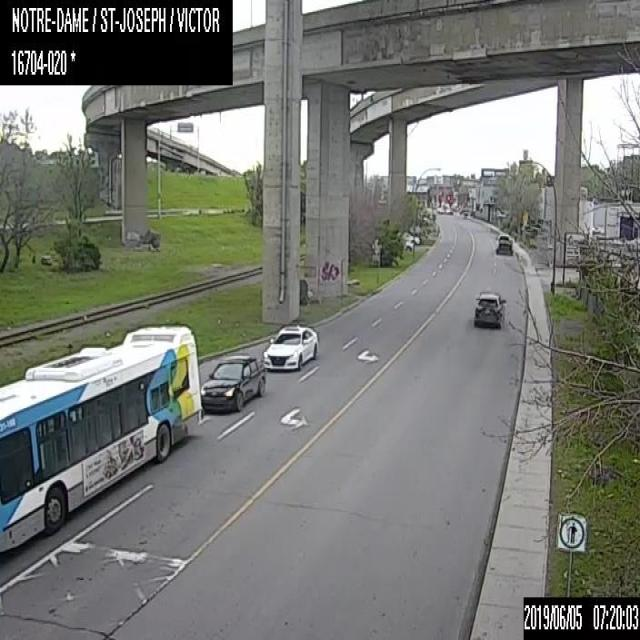bus: (0, 325, 201, 551)
vehicle: (201, 353, 265, 410), (263, 325, 318, 371), (472, 292, 506, 328), (494, 234, 513, 254), (400, 232, 419, 242), (403, 240, 413, 251)
